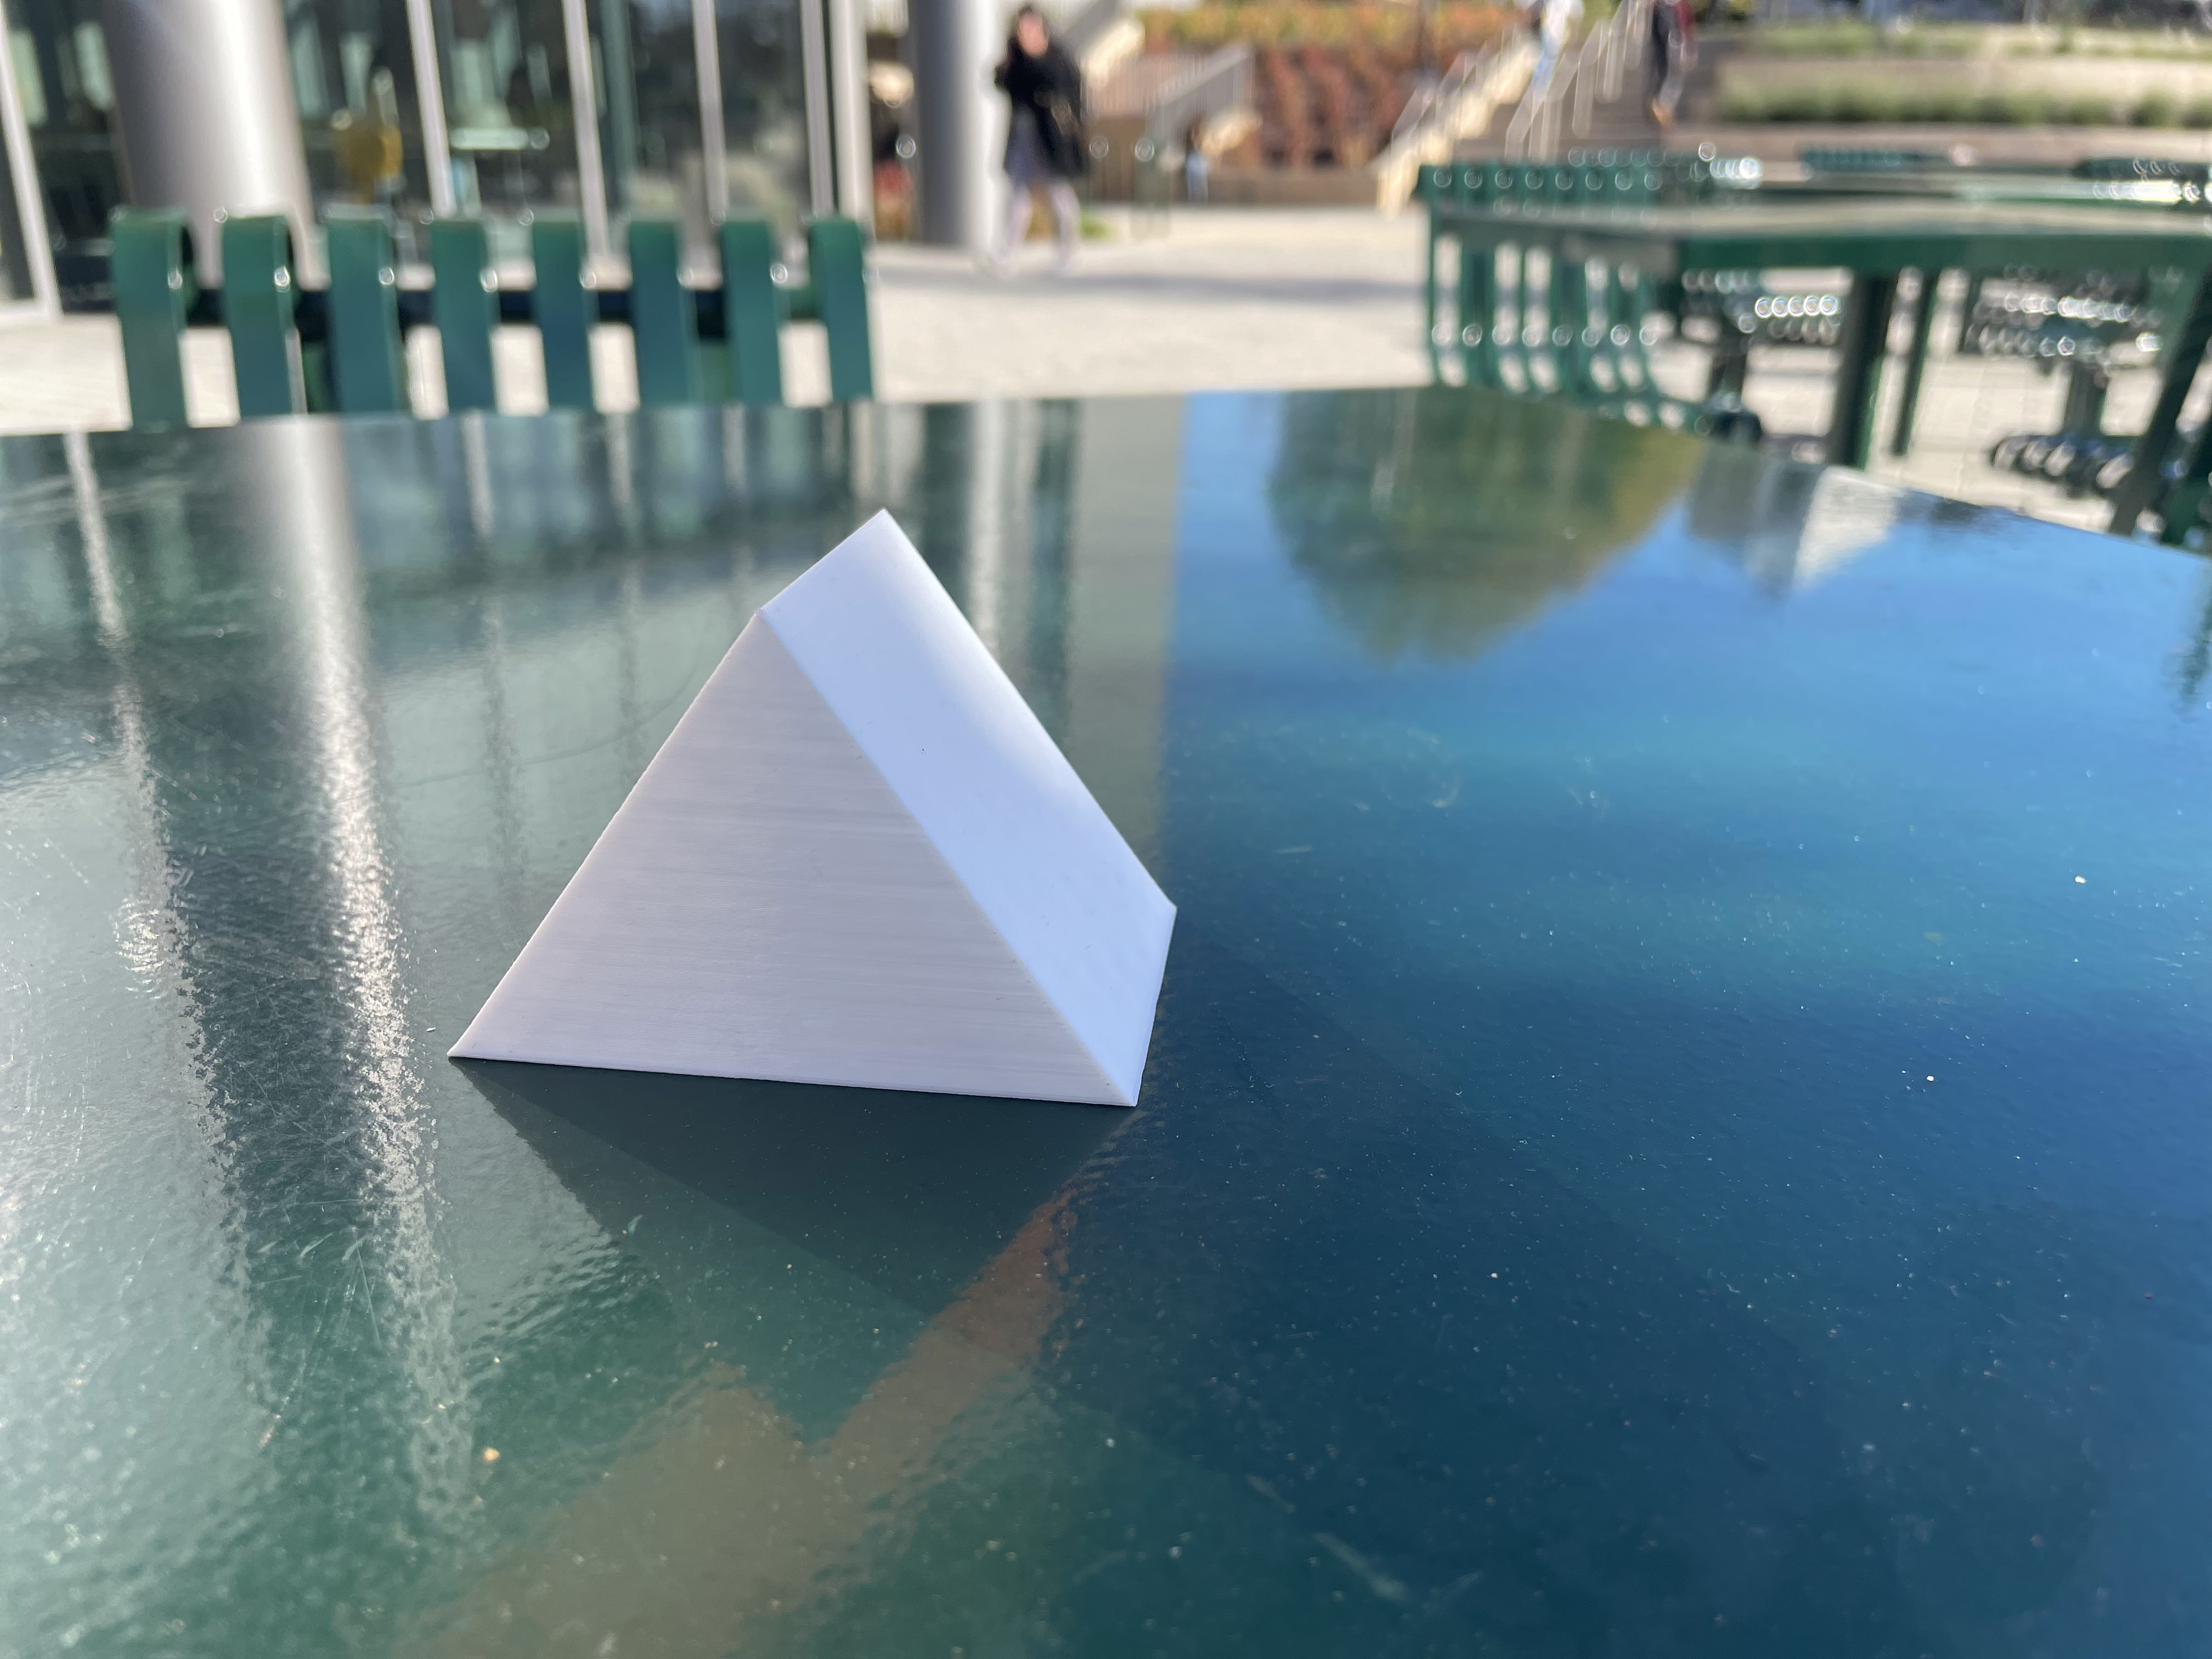payload2: (427, 491, 1198, 1136)
